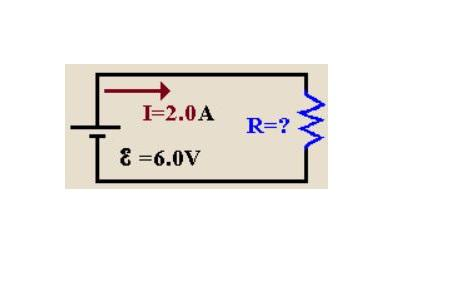resistor: (291, 88, 331, 155)
